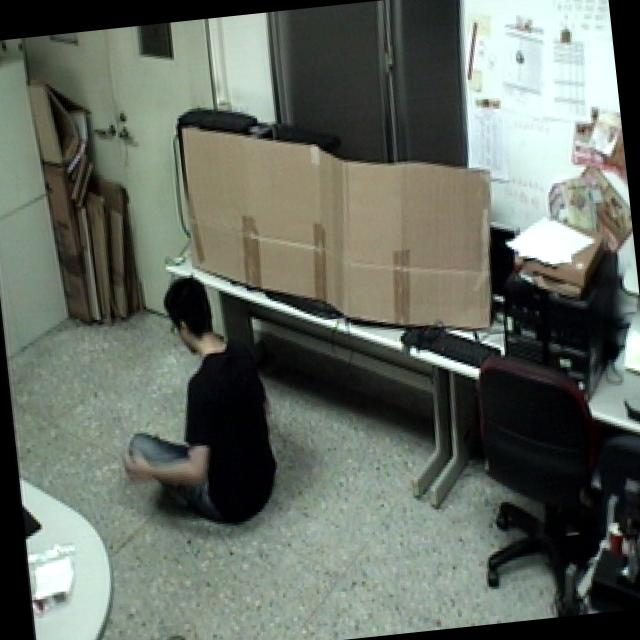sit: (102, 264, 287, 543)
